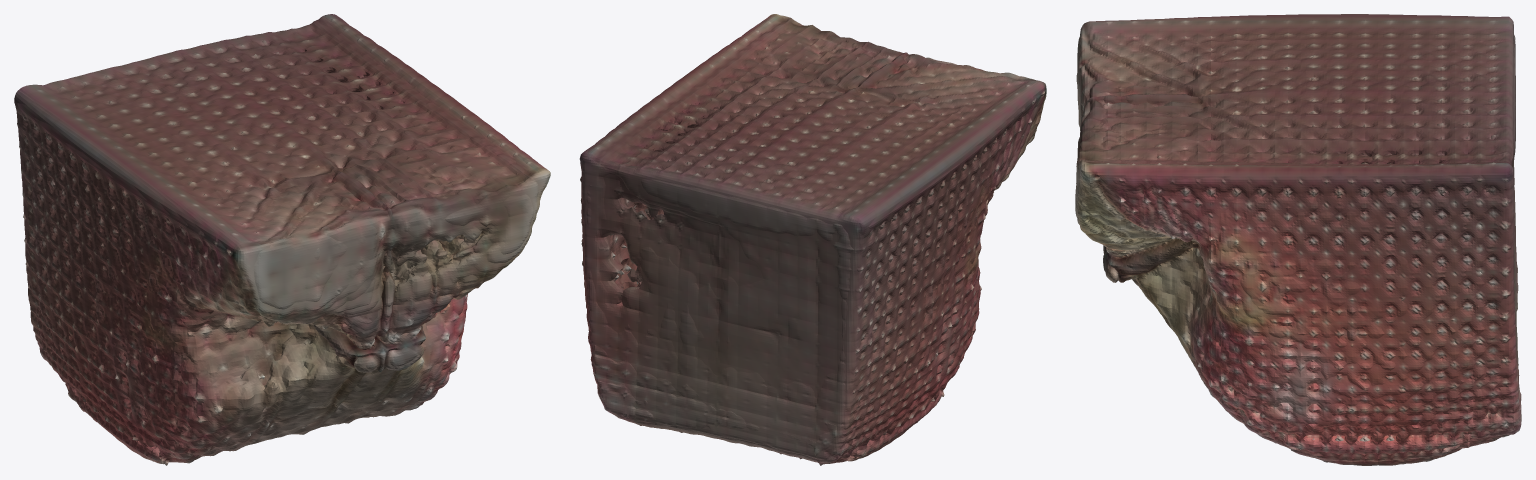
The picture shows the model from 3 angles, left to right: view 1: azimuth 30°, elevation 25°; view 2: azimuth 150°, elevation 25°; view 3: azimuth 270°, elevation 25°; orthographic projection. The views are drawn at different scales.
Parts seen in each view (by area): view 1: geometry_0; view 2: geometry_0; view 3: geometry_0.
Part boxes in pixels (bbox=[...]): geometry_0: bbox=[14, 14, 550, 465]; geometry_0: bbox=[579, 14, 1046, 465]; geometry_0: bbox=[1075, 14, 1521, 465].
Bounding box in the file's own units: 0.8201 × 0.7506 × 0.9476.
